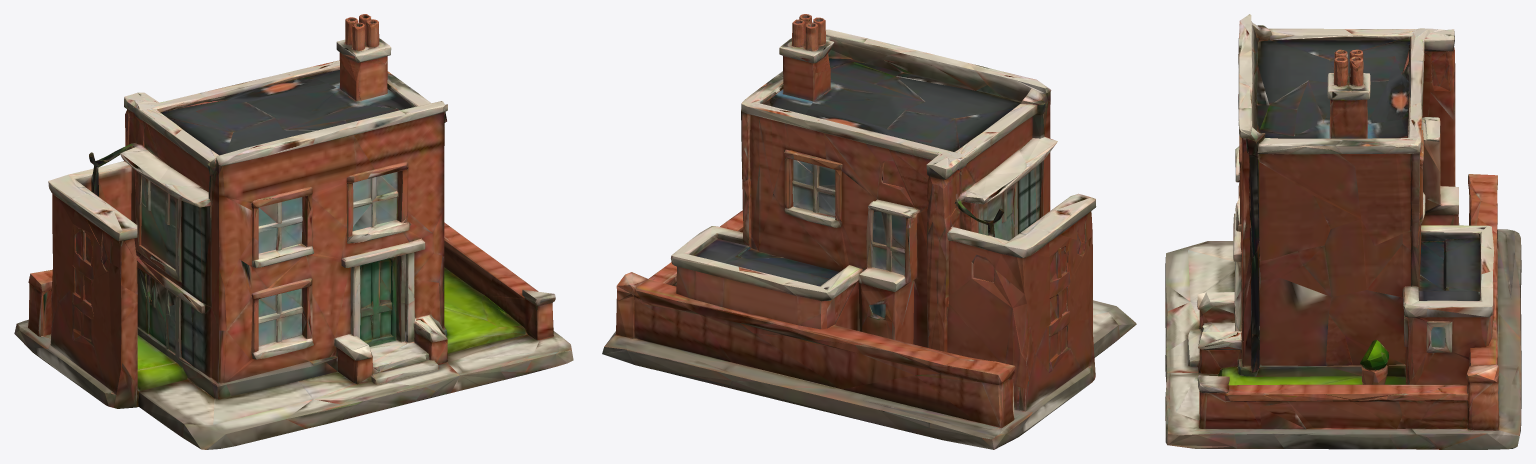
Rendered from town_townhouse_3.glb.
The picture shows the model from 3 angles, left to right: view 1: azimuth 30°, elevation 25°; view 2: azimuth 150°, elevation 25°; view 3: azimuth 270°, elevation 25°; orthographic projection. The views are drawn at different scales.
Visible parts, largest first — view 1: normalize; view 2: normalize; view 3: normalize.
Boxes of the visible parts, x1,y1,x2,y2 form: normalize: [14, 14, 573, 449]; normalize: [602, 14, 1136, 449]; normalize: [1165, 14, 1521, 449].
Size of the model in its own units: 1 by 0.7443 by 0.7303.
Materials: 1 (1 with a texture image).
